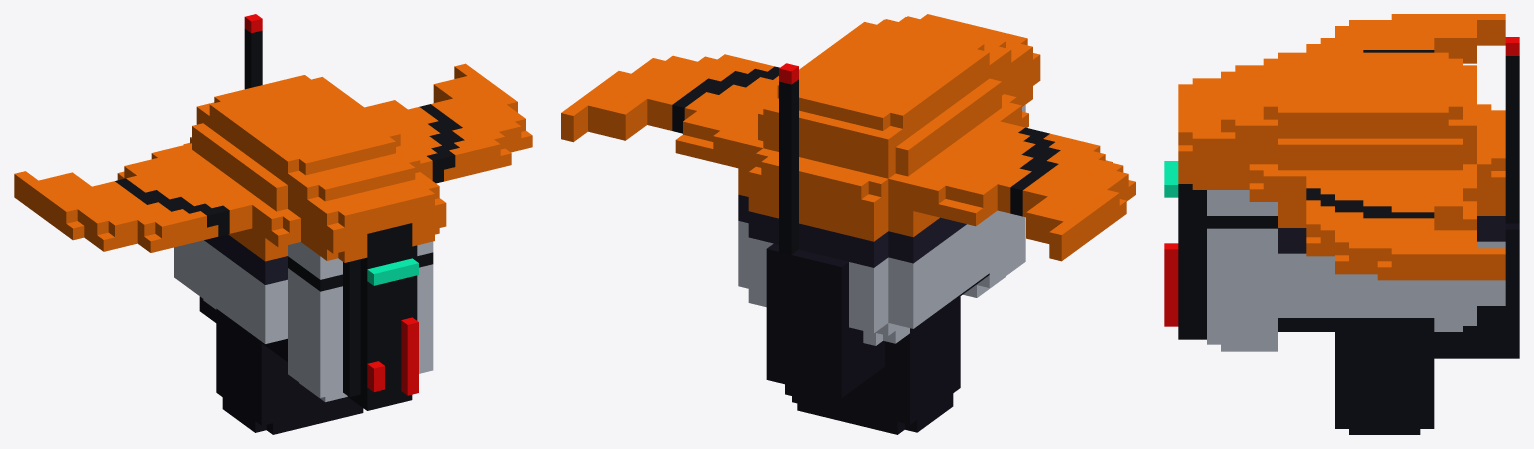
File: Drone.obj
3 views of the same model, side by side, from view 1: azimuth 30°, elevation 25°; view 2: azimuth 150°, elevation 25°; view 3: azimuth 270°, elevation 25° (orthographic). The views are drawn at different scales.
Size of the model in its own units: 4 by 2.9 by 2.5.
1 material, 1 textured.
